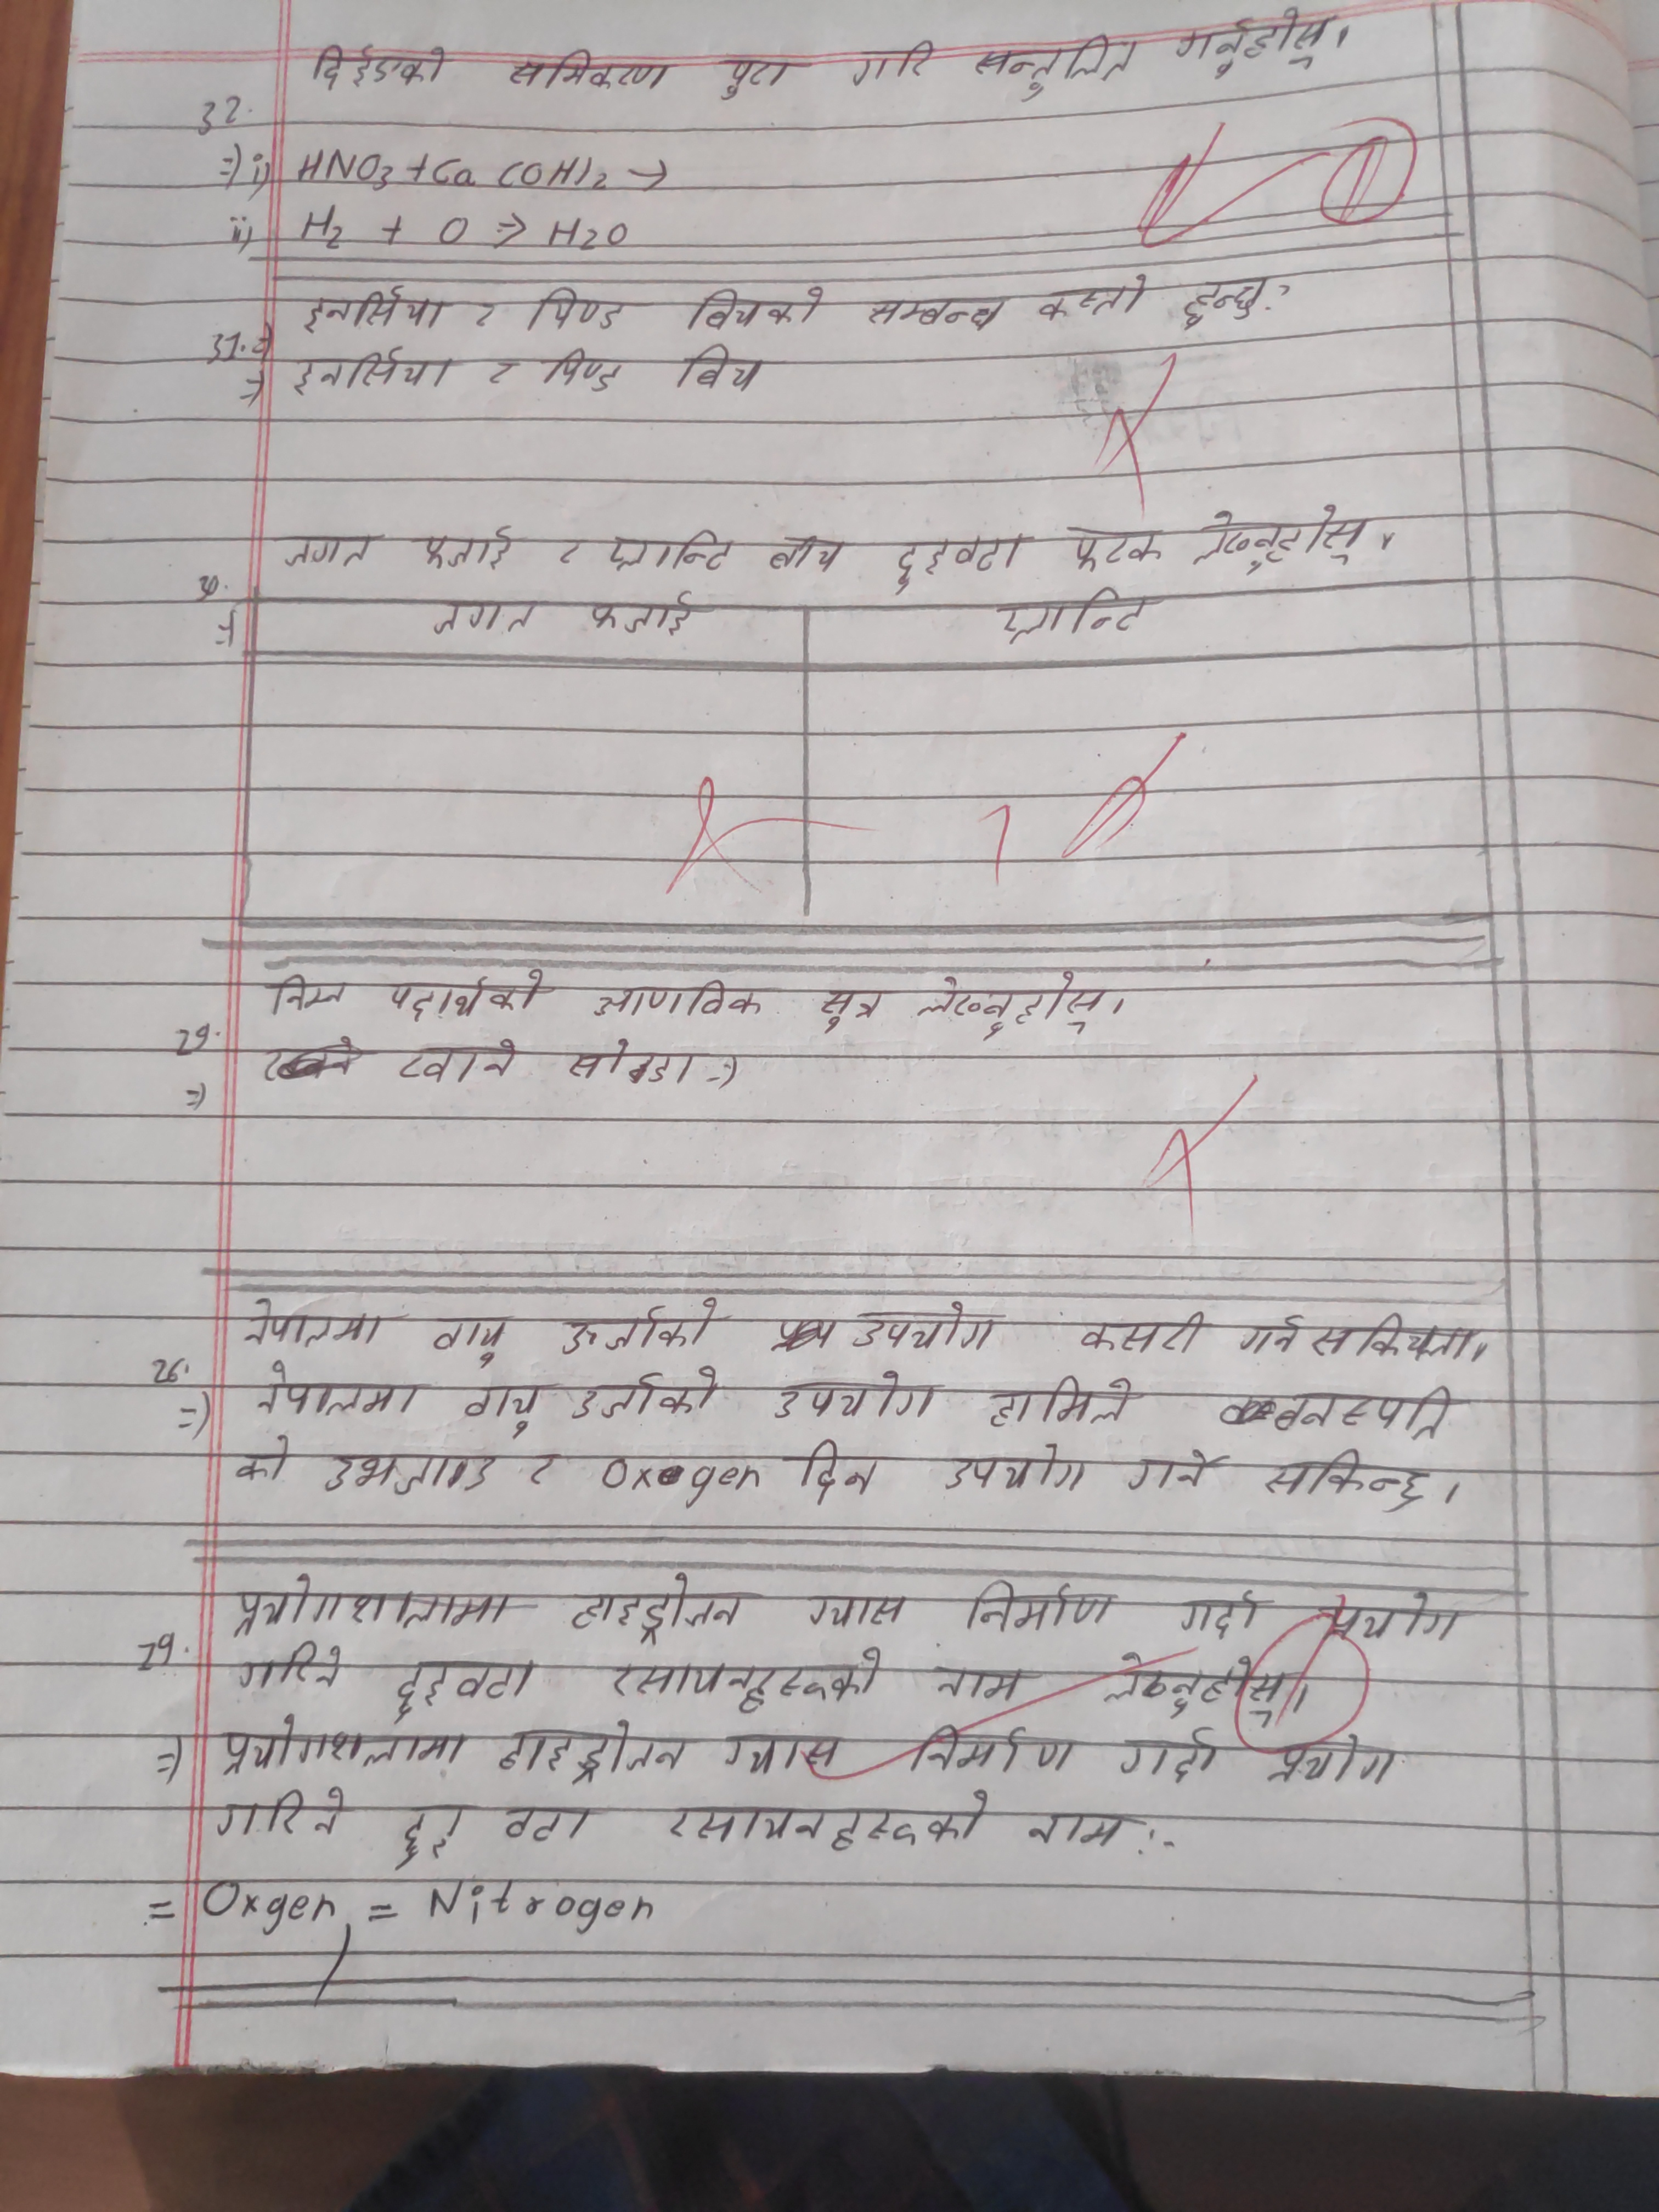text: (664, 1785, 999, 1853), (598, 1646, 890, 1717), (232, 1569, 514, 1637), (221, 1710, 467, 1782), (1265, 1378, 1464, 1449), (1188, 503, 1375, 578), (490, 1717, 690, 1787), (572, 1575, 755, 1648), (915, 968, 1107, 1038), (1098, 1651, 1288, 1714), (1175, 9, 1337, 82), (957, 1569, 1131, 1635), (971, 35, 1140, 103), (1263, 1446, 1434, 1512), (552, 1292, 725, 1357), (251, 1359, 422, 1423), (913, 1721, 1087, 1784), (769, 1366, 943, 1426), (317, 1446, 505, 1501), (1321, 1581, 1466, 1649), (852, 1294, 1006, 1357), (383, 1660, 538, 1721), (889, 528, 1030, 594), (213, 1782, 354, 1848), (383, 963, 547, 1019), (1314, 1305, 1473, 1362), (1262, 1733, 1403, 1797), (572, 1362, 720, 1423), (992, 1378, 1138, 1437), (240, 1296, 389, 1353), (509, 45, 676, 96), (995, 589, 1155, 641), (587, 975, 770, 1021), (291, 347, 455, 397), (561, 1031, 704, 1087), (943, 1440, 1093, 1493), (308, 40, 453, 94), (295, 289, 451, 338), (1077, 1305, 1211, 1360), (606, 526, 737, 580), (725, 1726, 845, 1784), (1115, 1723, 1225, 1785), (685, 287, 830, 333), (237, 1637, 347, 1696), (788, 1432, 880, 1501), (800, 1578, 915, 1634), (1121, 1442, 1225, 1503), (396, 1035, 519, 1085), (587, 589, 706, 641), (1061, 519, 1168, 577), (392, 1792, 465, 1872), (924, 1658, 1030, 1712), (868, 294, 1004, 336), (1037, 273, 1145, 326), (464, 1372, 549, 1433), (427, 596, 538, 641), (1175, 1588, 1270, 1641), (847, 38, 939, 92), (410, 526, 512, 573), (1021, 1808, 1127, 1853), (528, 284, 622, 334), (429, 1312, 512, 1367), (678, 343, 767, 395), (1182, 277, 1267, 329), (714, 54, 796, 108), (493, 1804, 601, 1844), (282, 531, 380, 575), (547, 347, 626, 399), (765, 526, 845, 577), (232, 1433, 301, 1489), (272, 970, 347, 1019), (816, 984, 889, 1033), (1241, 1312, 1302, 1357), (526, 1444, 565, 1493), (552, 531, 582, 570), (483, 361, 521, 387), (471, 296, 497, 331)
